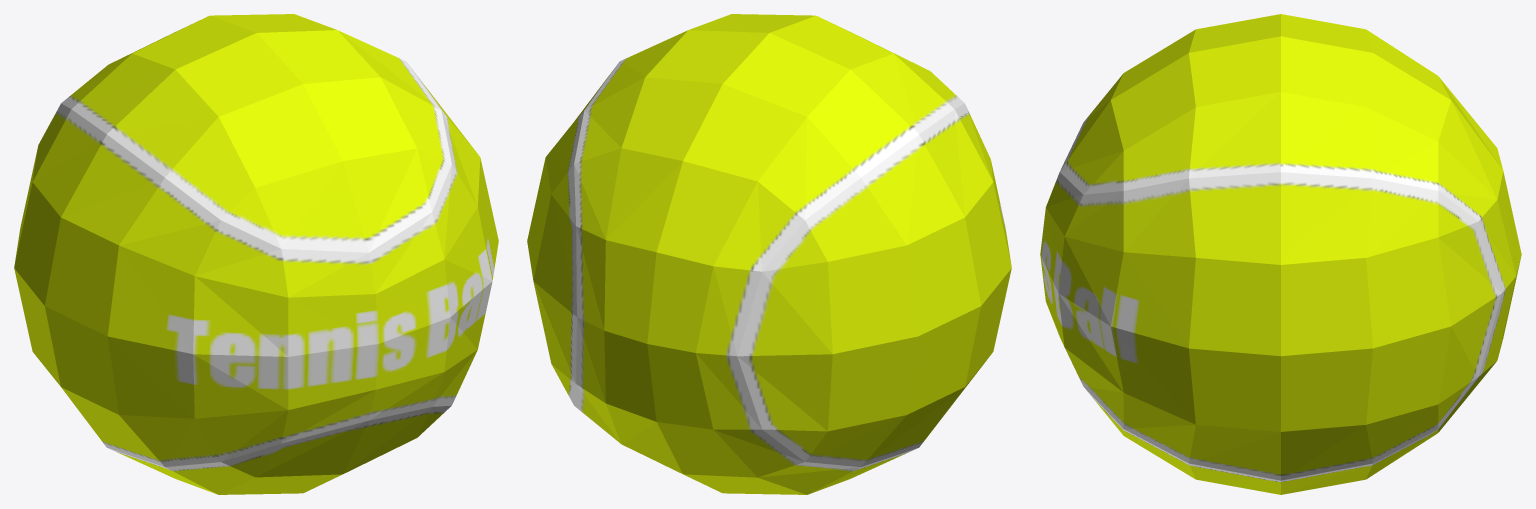
File: TennisBall.fbx
3 renders of one model, left to right at view 1: azimuth 30°, elevation 25°; view 2: azimuth 150°, elevation 25°; view 3: azimuth 270°, elevation 25°, orthographic.
Visible parts, largest first — view 1: Mesh; view 2: Mesh; view 3: Mesh.
Boxes of the visible parts, box(x1,y1,x2,y2) form: Mesh: box(14, 14, 498, 494); Mesh: box(527, 14, 1011, 494); Mesh: box(1040, 14, 1521, 494).
Bounding box in the file's own units: 6.6 × 6.6 × 6.6.
Materials: 1 (1 with a texture image).
